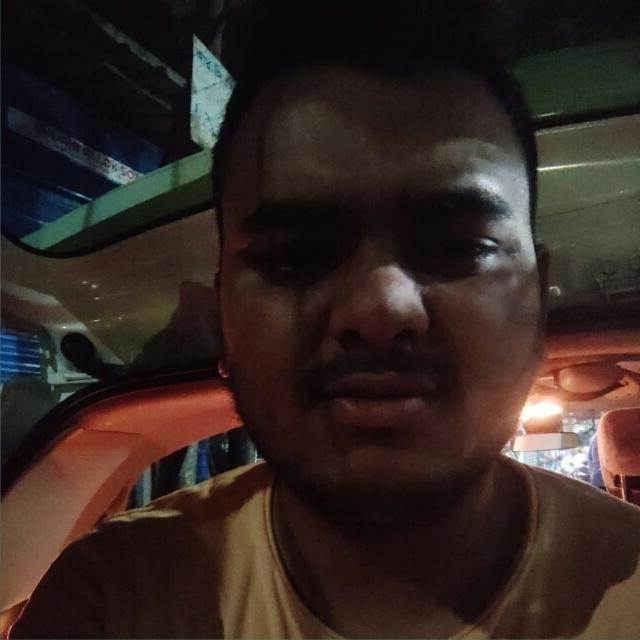Angry: (105, 77, 587, 514)
